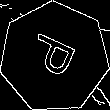P_SE: (25, 30, 84, 85)
